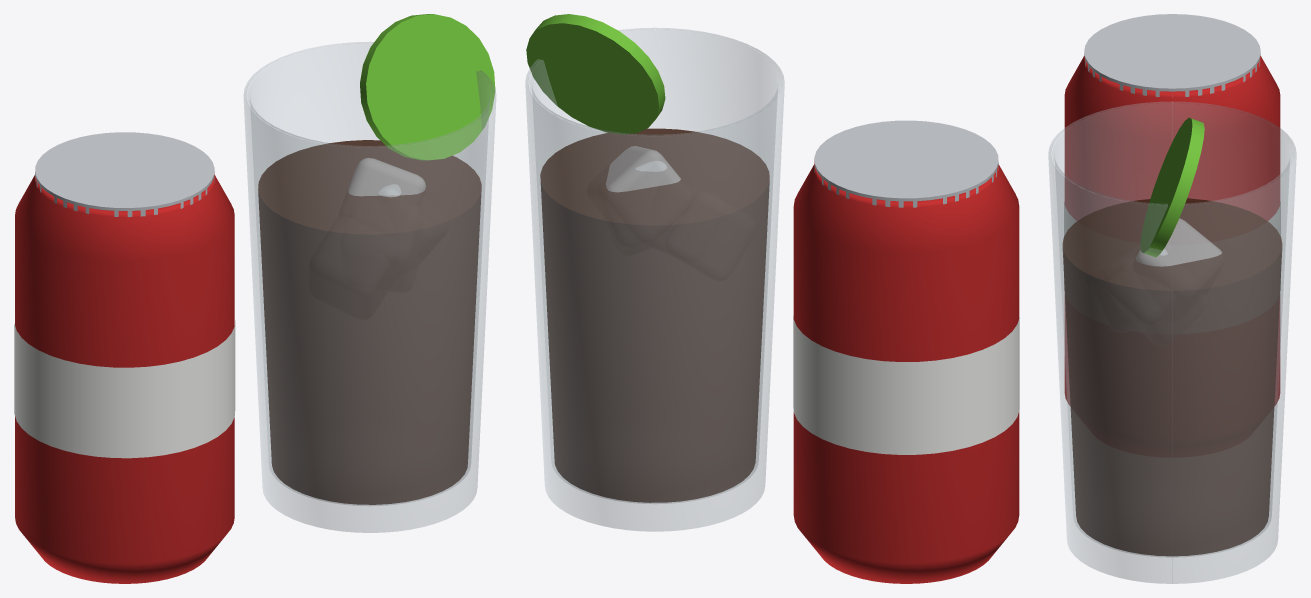
Rendered from refrigerante.glb.
The picture shows the model from 3 angles, left to right: view 1: azimuth 30°, elevation 25°; view 2: azimuth 150°, elevation 25°; view 3: azimuth 270°, elevation 25°; orthographic projection. The views are drawn at different scales.
Visible parts, largest first — view 1: refrigerante; view 2: refrigerante; view 3: refrigerante.
Boxes of the visible parts, box(x1,y1,x2,y2) form: refrigerante: box(14, 14, 496, 583); refrigerante: box(525, 14, 1019, 583); refrigerante: box(1048, 14, 1296, 583).
Bounding box in the file's own units: 0.1602 × 0.1492 × 0.076.
